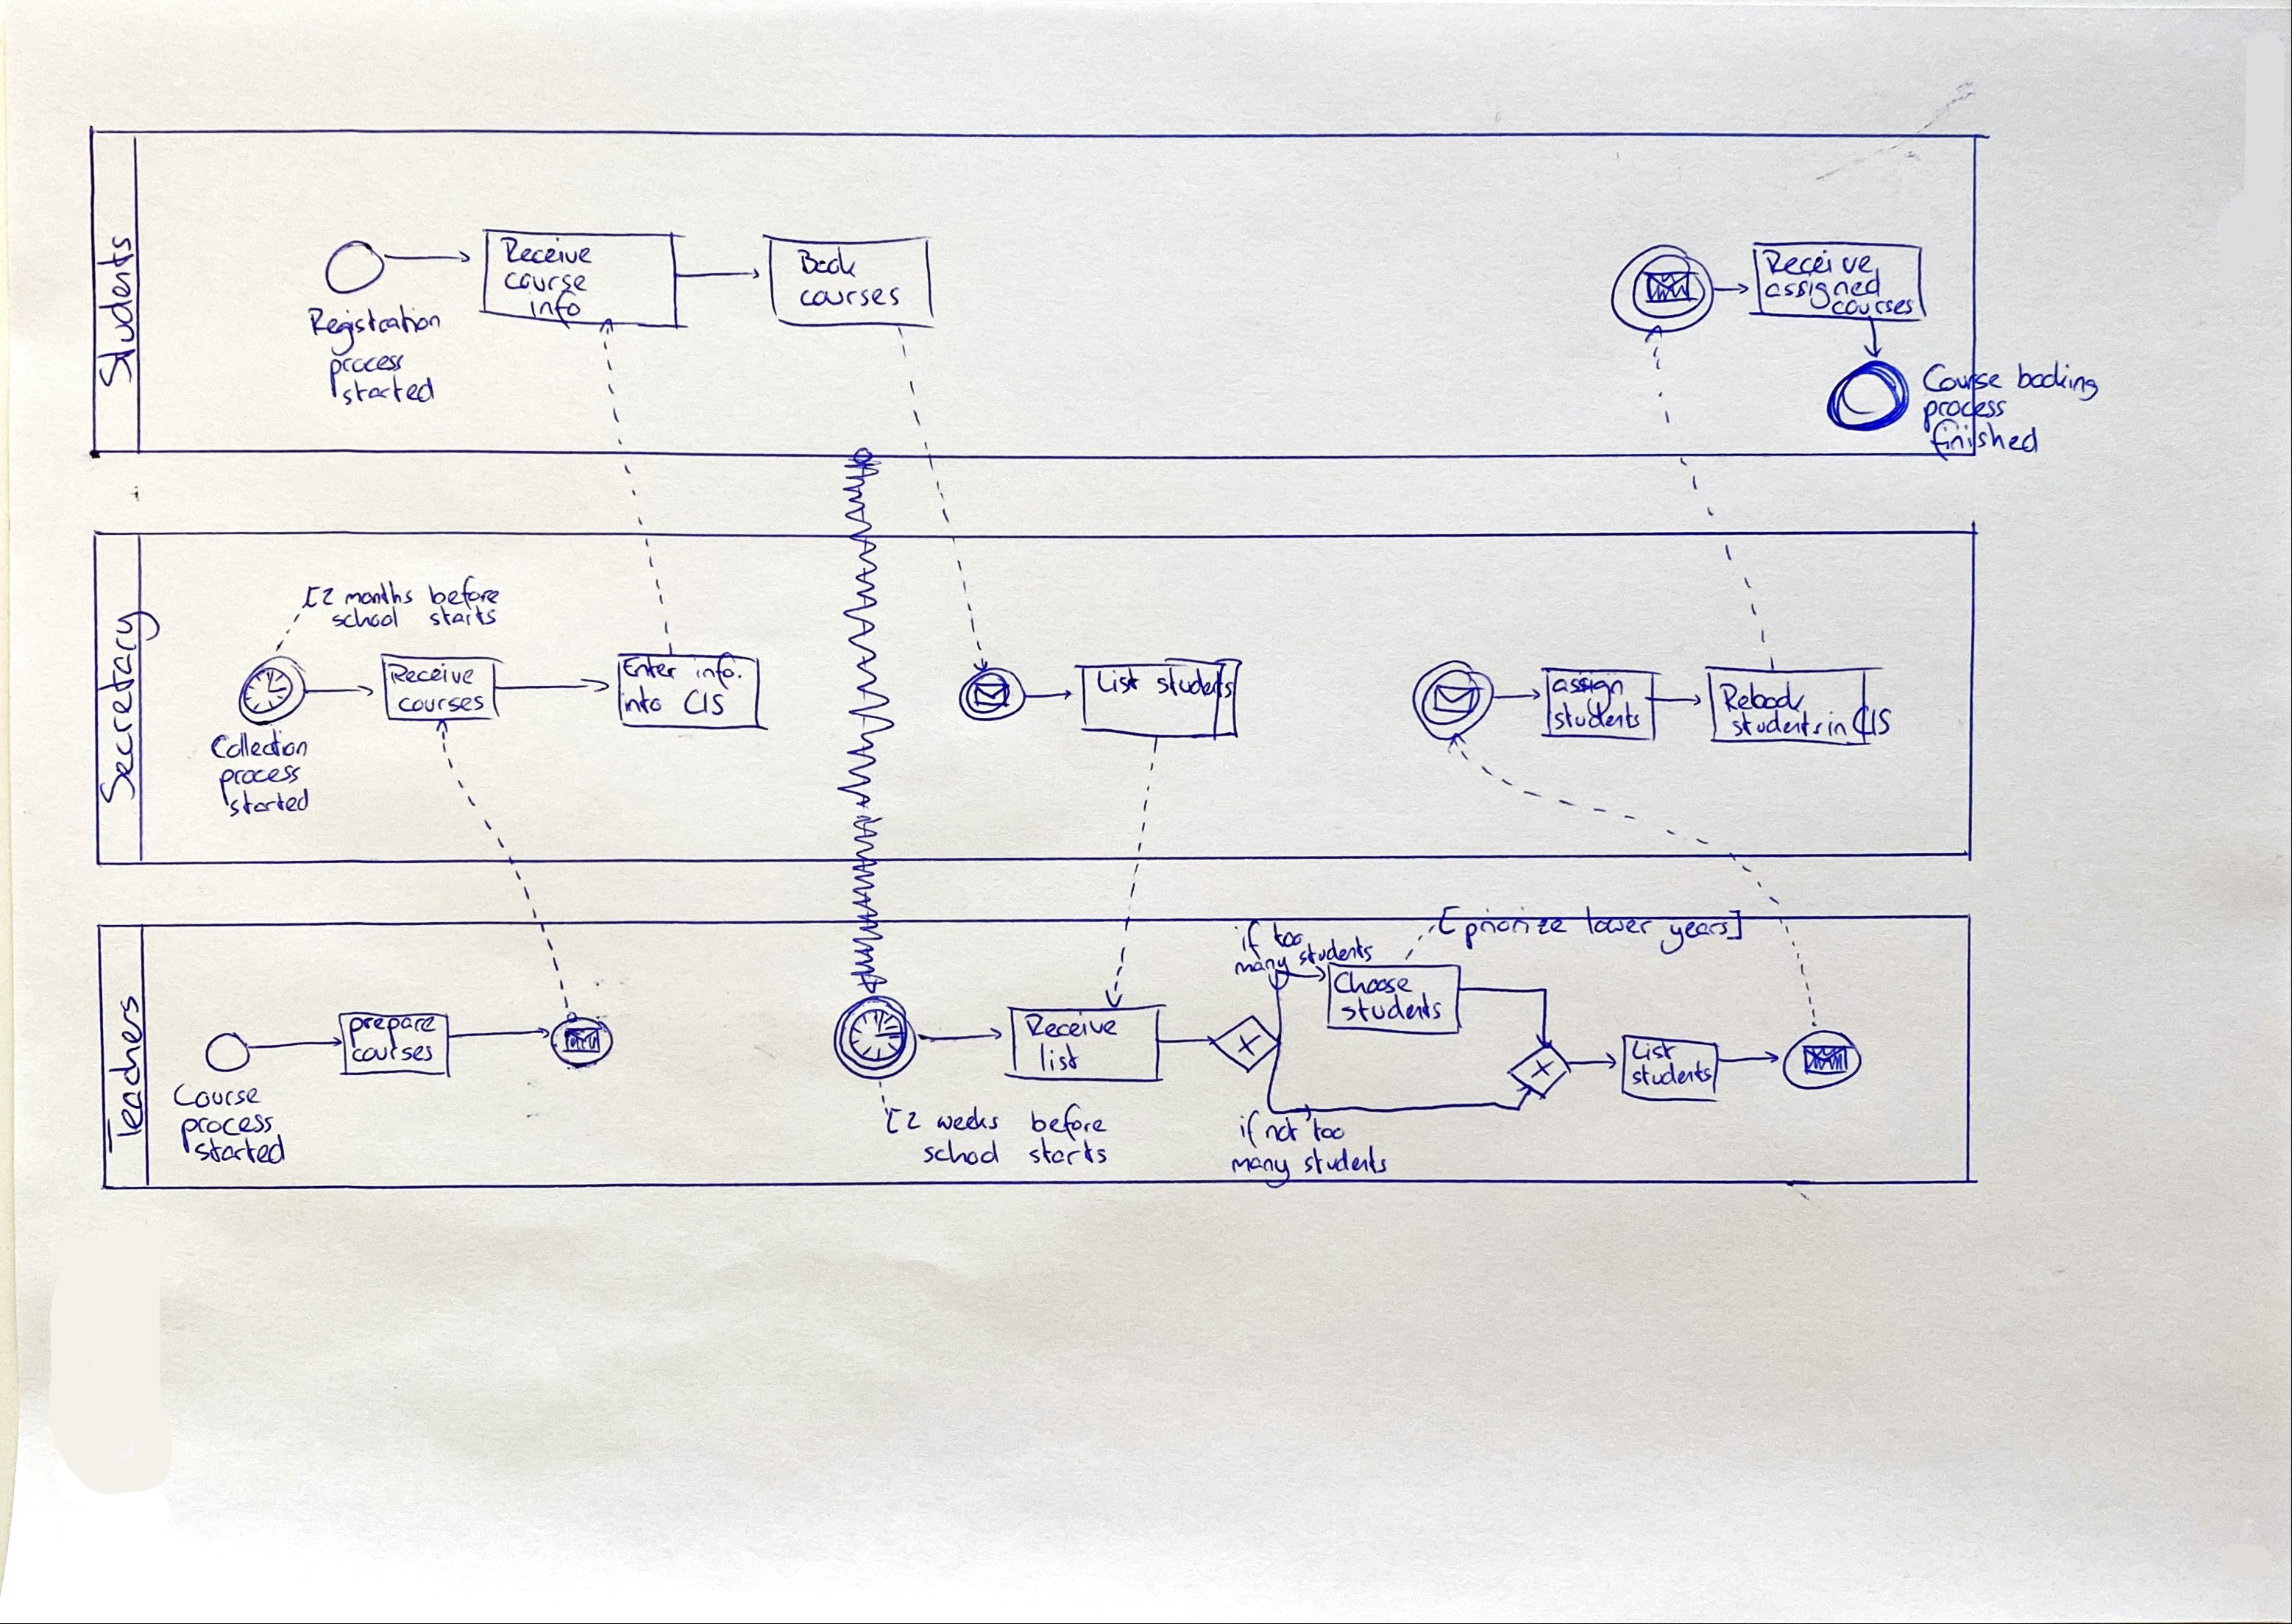2: (905, 1108, 923, 1132)
Back: (794, 249, 855, 278)
CIS: (1851, 706, 1895, 737), (684, 687, 728, 716)
Choose: (1333, 970, 1419, 995)
Collection: (209, 726, 311, 761)
Course: (171, 1082, 260, 1110), (1922, 364, 2003, 391)
Enter: (619, 656, 681, 684)
List: (1094, 667, 1142, 696), (1630, 1039, 1678, 1062)
Rebook: (1718, 681, 1809, 714)
Receive: (1765, 249, 1876, 277), (498, 235, 593, 266), (1022, 1013, 1121, 1040), (386, 663, 476, 690)
Registration: (303, 305, 441, 354)
Secretary: (96, 610, 161, 805)
Students: (91, 233, 140, 387)
Teachers: (107, 995, 143, 1157)
[2: (300, 583, 341, 611)
assign: (1552, 675, 1625, 706)
assigned: (1765, 275, 1884, 299)
before: (1028, 1102, 1110, 1143), (429, 577, 505, 610)
booking: (2015, 362, 2098, 400)
coucsecources: (1834, 298, 1915, 316)
course: (503, 270, 589, 292)
courses: (800, 285, 901, 313), (397, 691, 489, 717), (350, 1043, 436, 1066)
finished: (1933, 419, 2040, 459)
if: (1232, 922, 1267, 963), (1238, 1107, 1260, 1151)
in: (1825, 709, 1851, 738)
info: (691, 654, 742, 687), (529, 294, 583, 322)
into: (620, 687, 666, 716)
list: (1037, 1040, 1081, 1072)
lower: (1580, 904, 1656, 937)
many: (1230, 1154, 1293, 1189), (1230, 962, 1291, 997)
months: (341, 584, 414, 604)
not: (1265, 1115, 1302, 1143)
prepare: (348, 1015, 439, 1051)
priorize: (1461, 909, 1569, 954)
process: (216, 762, 303, 799), (177, 1119, 274, 1154), (1921, 395, 2008, 425), (325, 355, 409, 374)
school: (920, 1138, 1005, 1166), (329, 608, 404, 633)
started: (193, 1134, 289, 1165), (338, 379, 441, 407), (225, 792, 311, 820)
starts: (1027, 1137, 1112, 1167), (429, 607, 499, 630)
students: (1338, 992, 1444, 1024), (1729, 707, 1827, 738), (1300, 1144, 1390, 1177), (1553, 701, 1642, 732), (1155, 664, 1237, 695), (1294, 943, 1376, 972), (1629, 1060, 1714, 1088)
too: (1310, 1117, 1349, 1144), (1269, 922, 1308, 948)
weeks: (934, 1104, 1003, 1132)
years: (1658, 919, 1731, 956)
